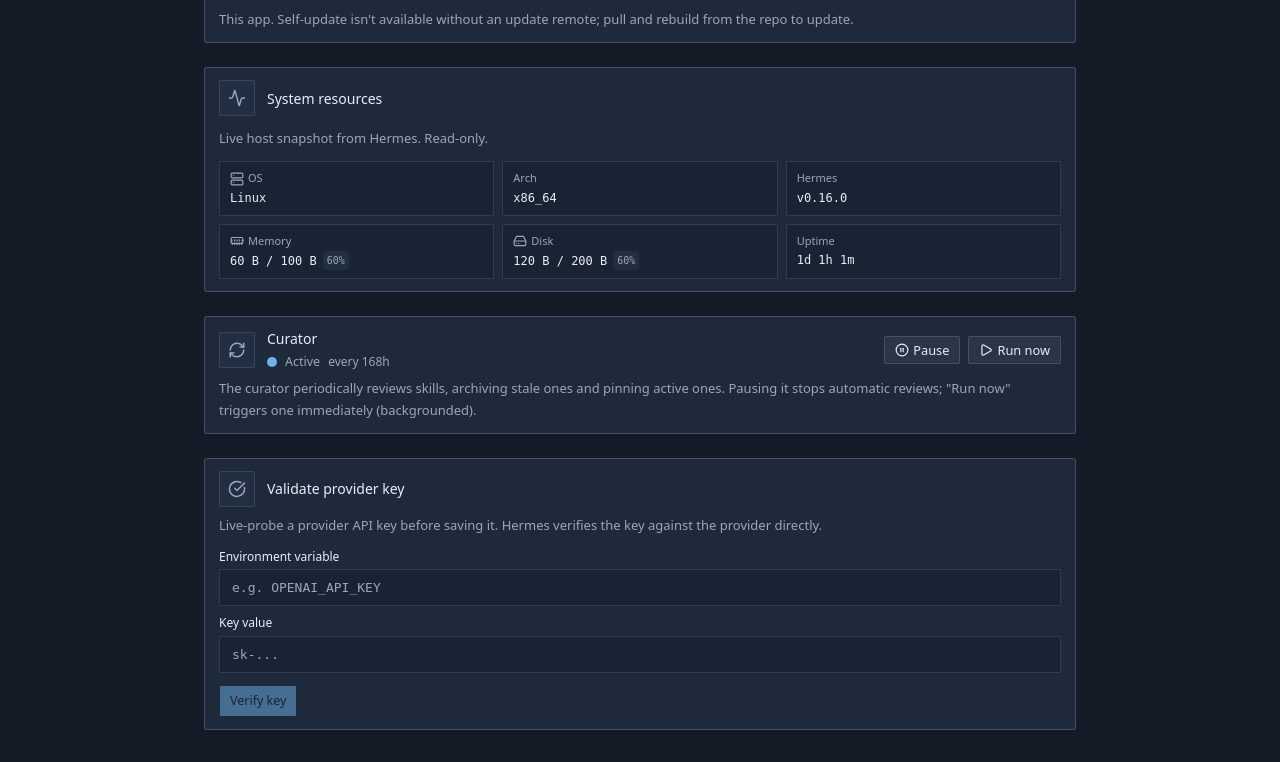
it: SystemRoute › validates a provider key through a real POST and shows the honest verdict
The image size is (1280, 762).
(page scrolled)
In the field labelled "Environment variable": [640, 588] box [219, 569, 1061, 606], type "OPENAI_API_KEY"
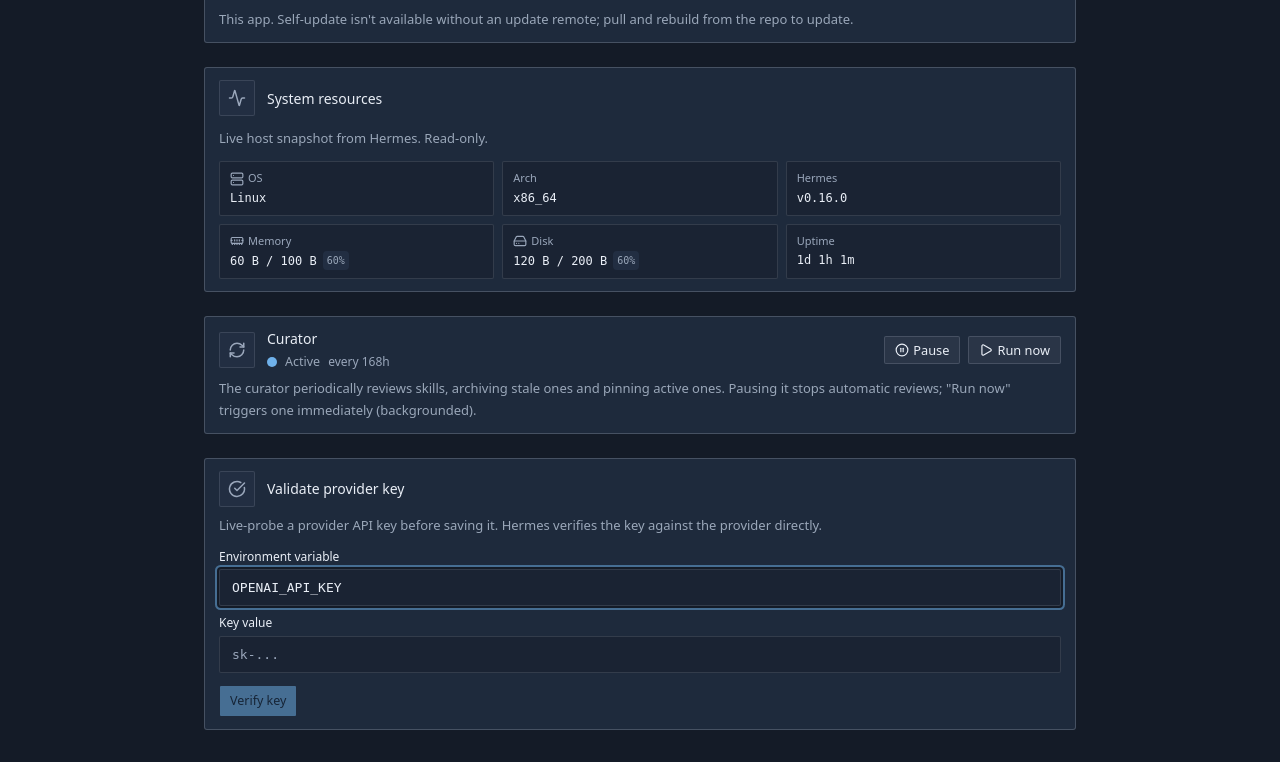
In the password field labelled "Key value": [640, 654] box [219, 636, 1061, 673], type "sk-test"
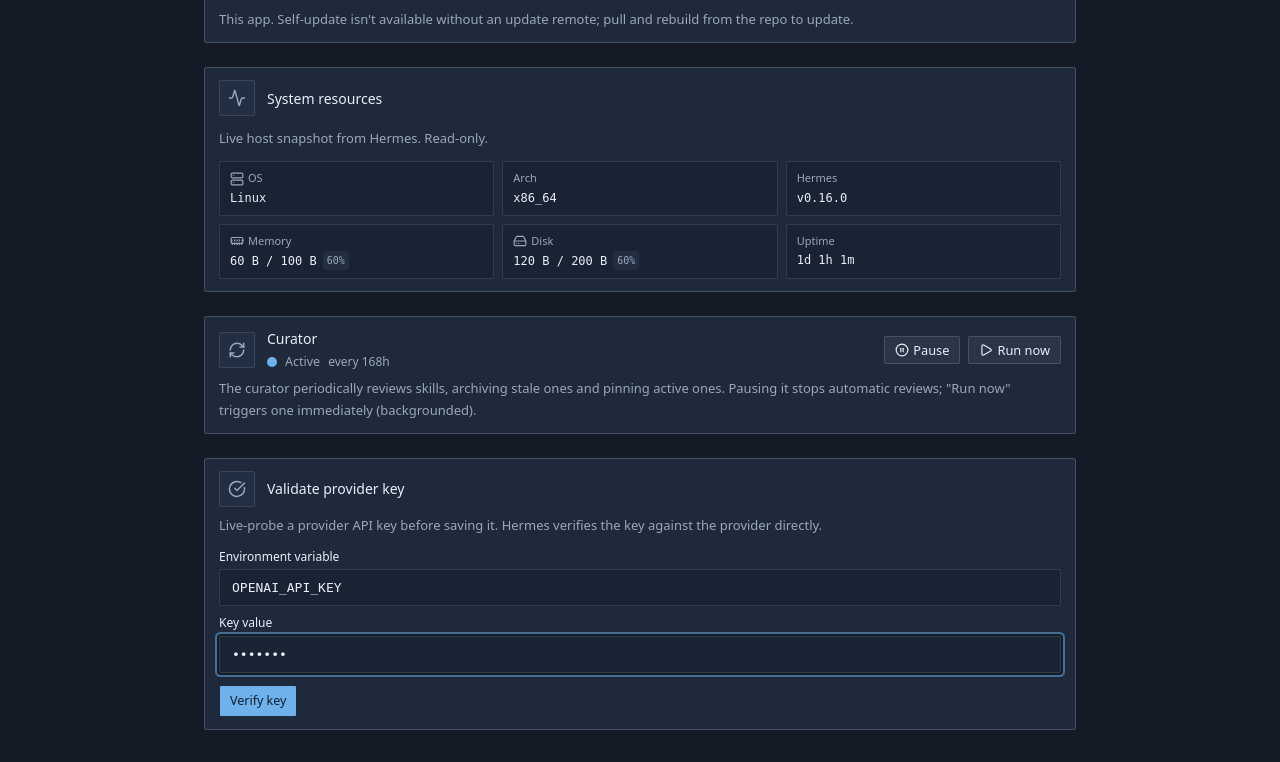
Click the button "Verify key": [258, 701] box [219, 685, 298, 717]
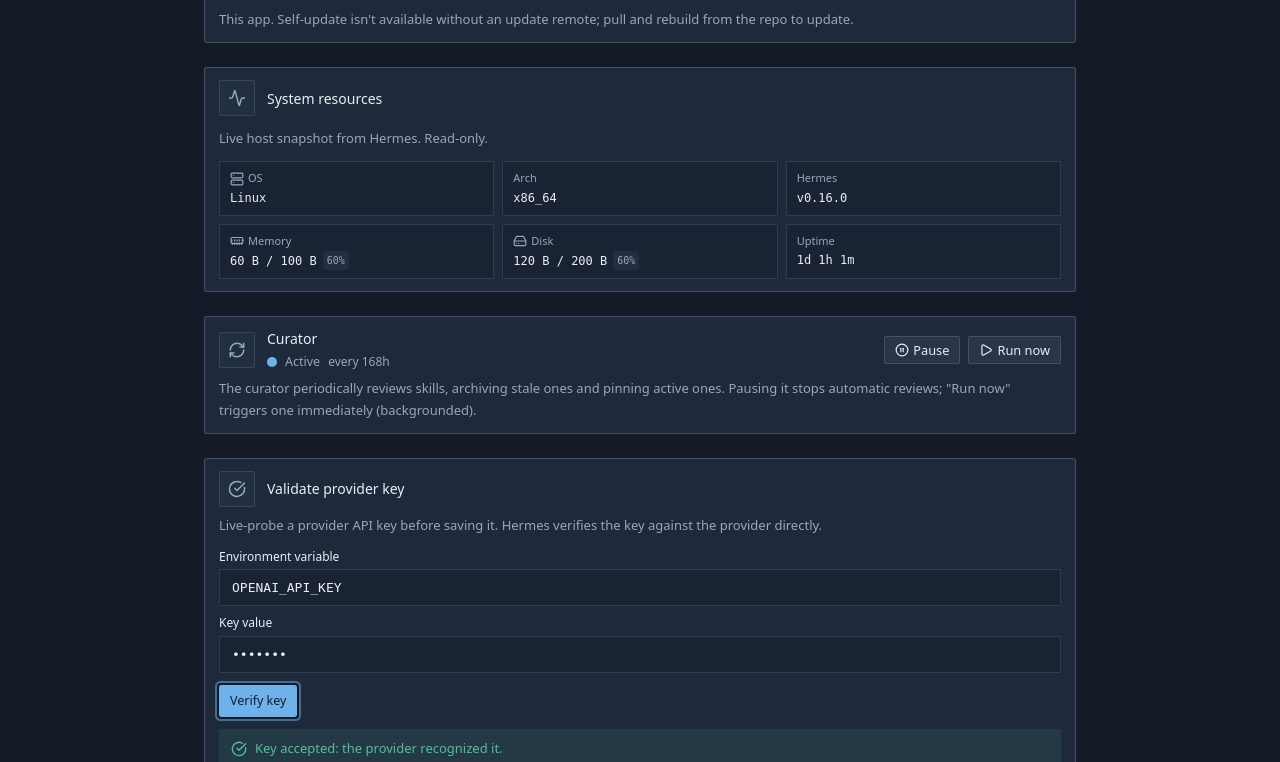
Result: the text "Key accepted: the provider recognized it." is shown at [255, 739, 503, 759]
